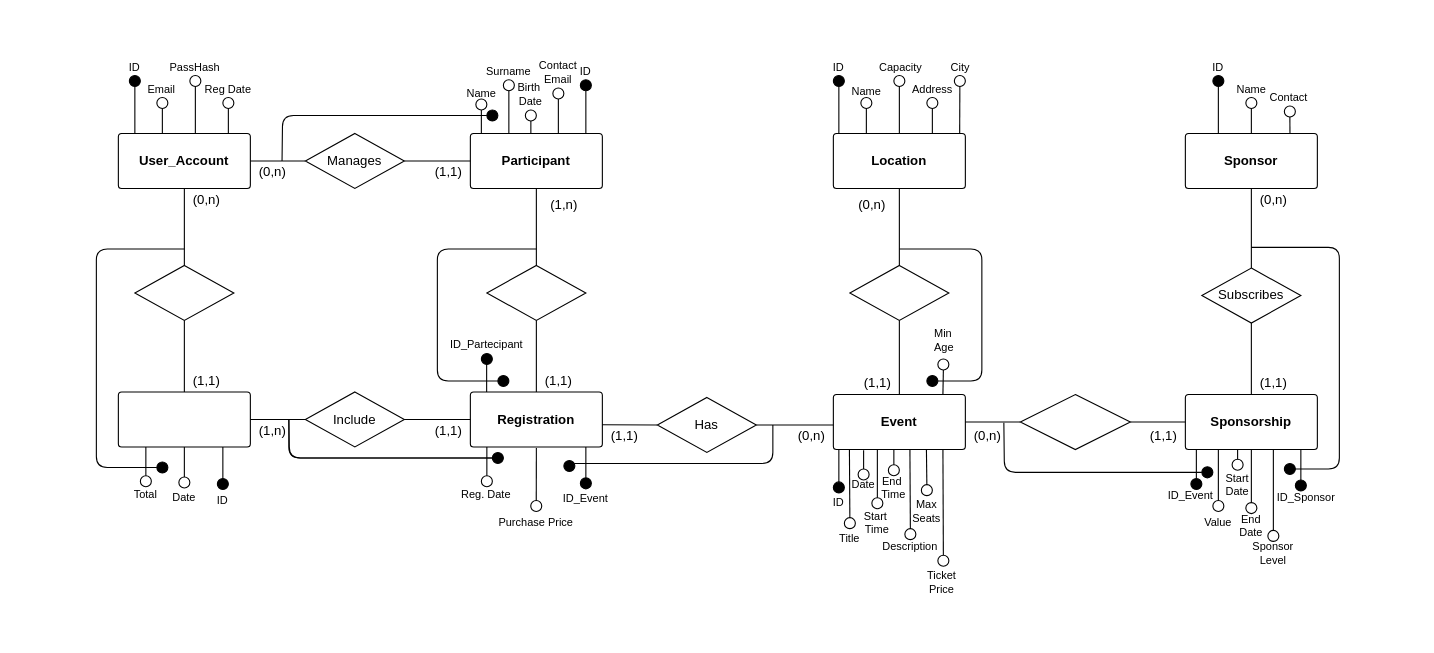
Image size: 1434x653. Some labels were removed from this diagram. Each missing label, with the box of its shape:
Booking: (117, 391, 250, 447)
Hosts: (849, 264, 949, 320)
Make: (134, 264, 234, 320)
Owns: (486, 264, 586, 320)
Receives: (1019, 393, 1130, 450)
